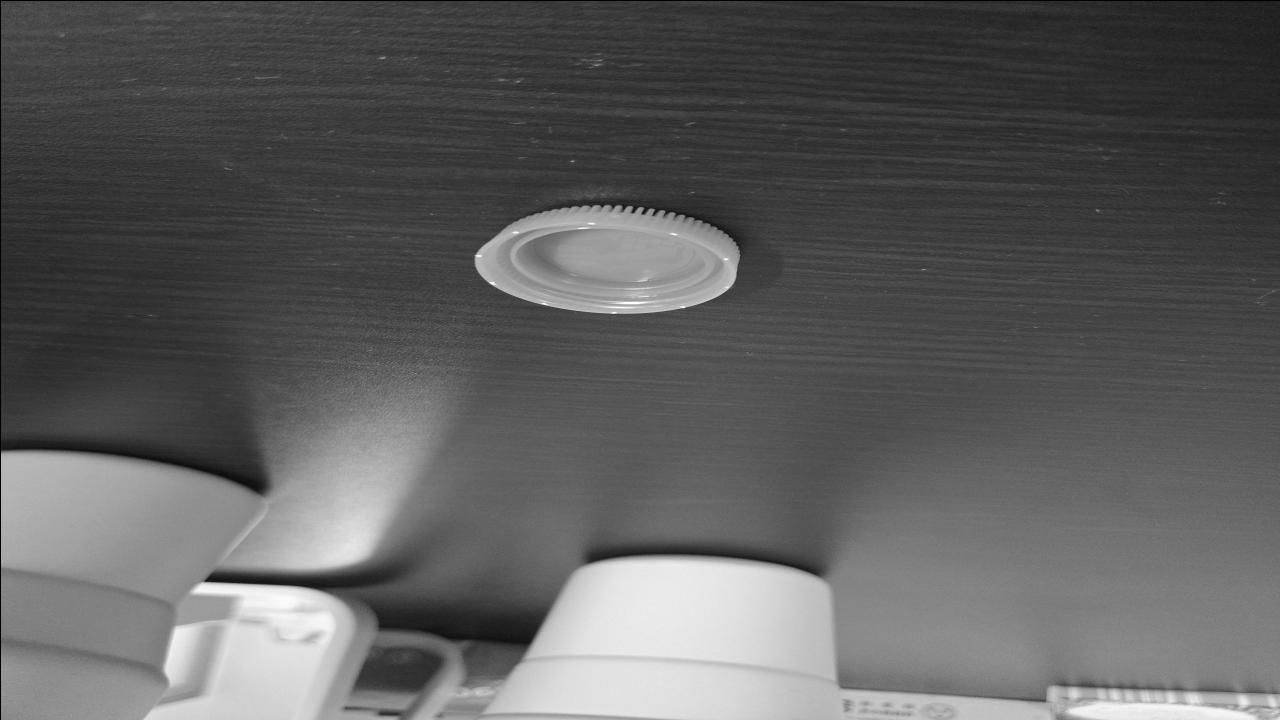bottle_cap: (466, 200, 748, 320)
